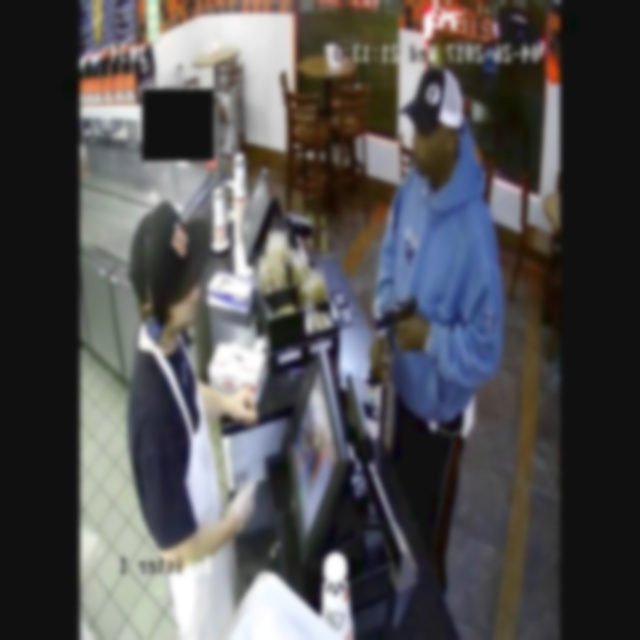gun: (368, 272, 429, 358)
